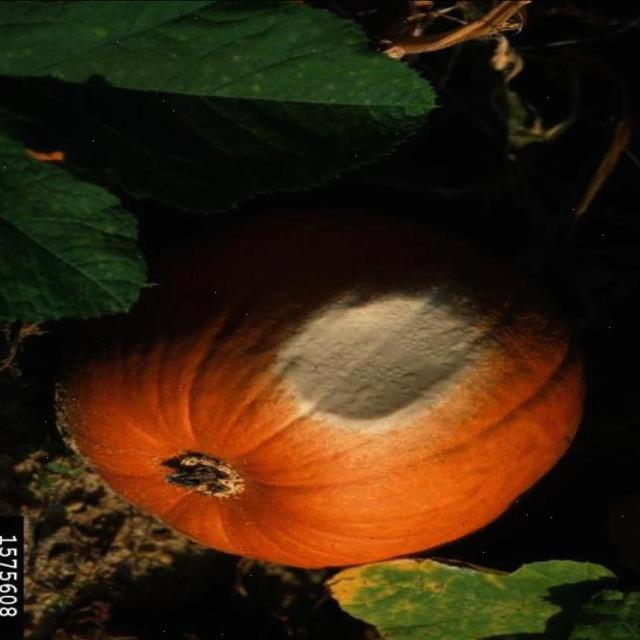Sunscald Fruit: (180, 168, 333, 291)
